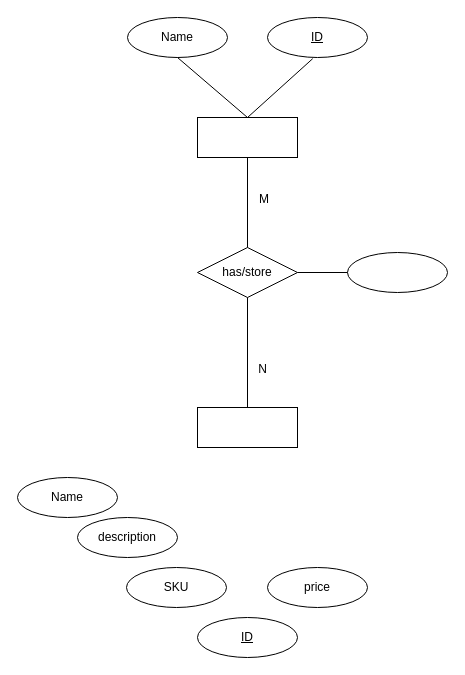
Image size: 465x675. Some labels were removed from this diagram. The centre of each missing label's shape, as x and y in pixels:
amount: (x=397, y=272)
PRODUCT: (x=247, y=427)
STOCK: (x=247, y=137)
